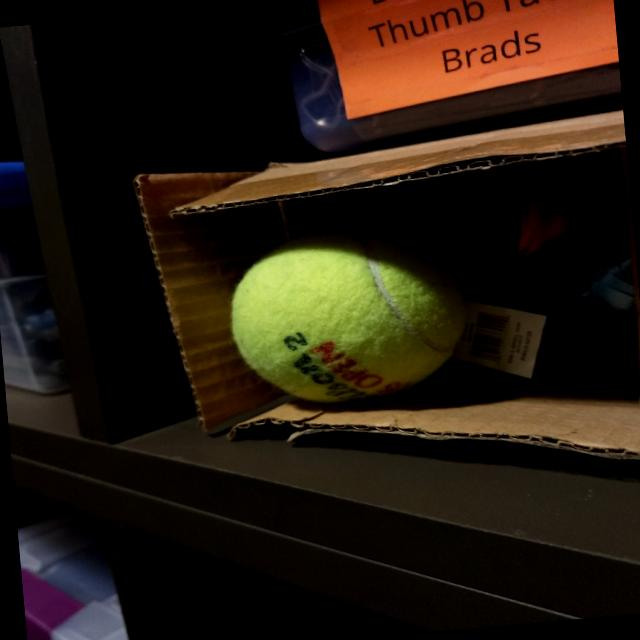Tennis Ball: (222, 214, 480, 417)
